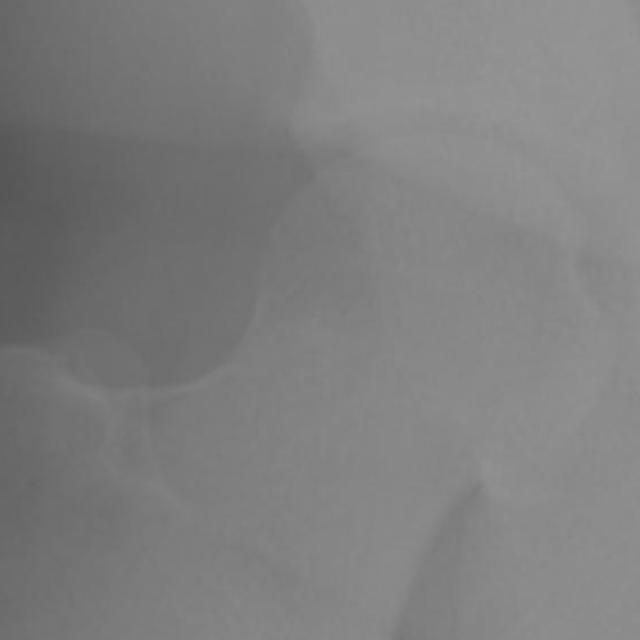Fitted_femural_head: (362, 135, 432, 362)
